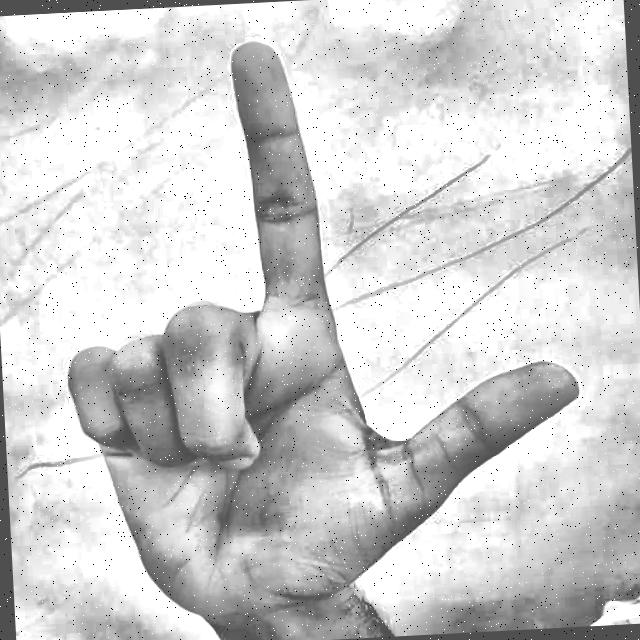La: (9, 11, 600, 640)
